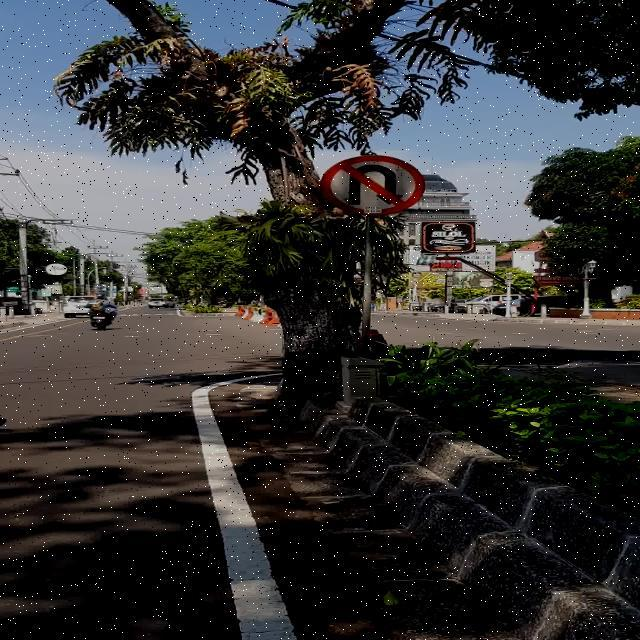Dilarang Putar Balik: (320, 155, 425, 215)
